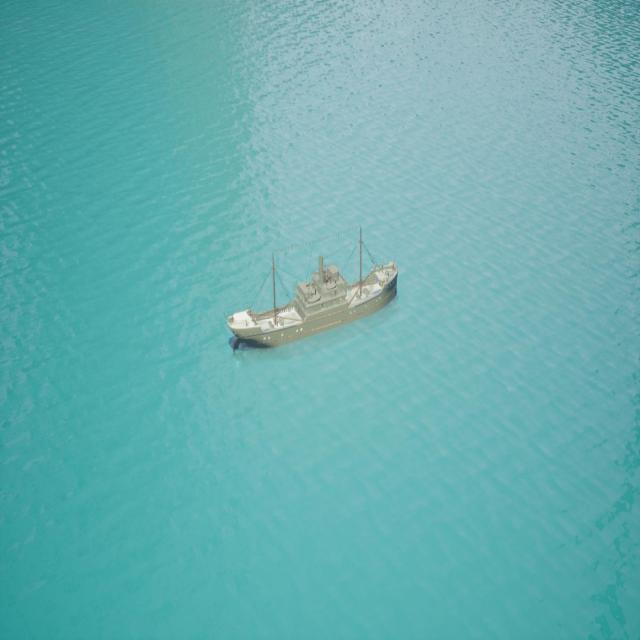fishing ship: (229, 246, 398, 354)
